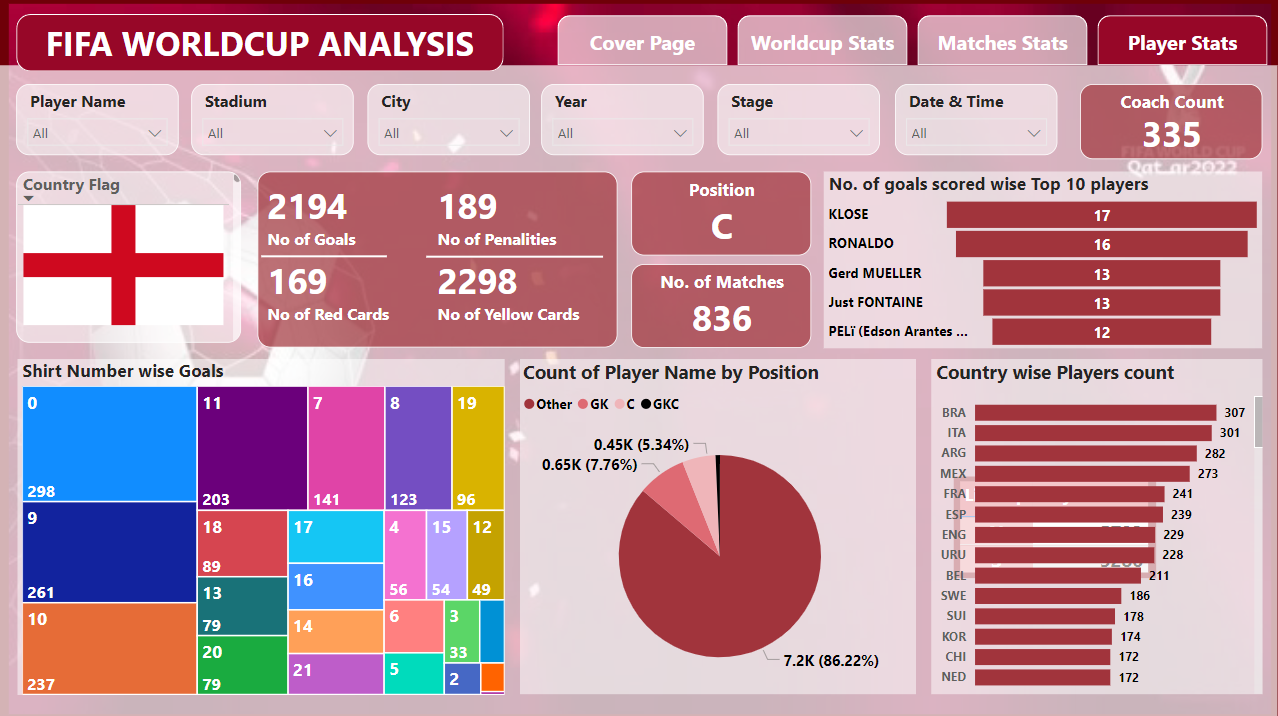

Layout of this report page (visuals, bound fields, positions):
{"tool":"powerbi","page":{"name":"Player Stats","canvas":[1280,720],"ordinal":3},"visuals":[{"type":"image","box":[0,0,1280,720],"z":0},{"type":"shape","box":[0,66.2,1277.5,653.8],"z":1000},{"type":"shape","box":[16.2,15,487.5,57.5],"z":2000},{"type":"card","title":"No. of Matches","fields":{"Values":["WorldCups.MatchesPlayed"]},"box":[631.4,265.1,180,83.8],"z":3000},{"type":"slicer","fields":{"Values":["Team Flags.Player Name"]},"box":[16.3,85.3,162,71],"z":4000},{"type":"slicer","fields":{"Values":["WorldCupMatches.Date & Time"]},"box":[895.4,85,162.5,71.3],"z":5000},{"type":"treemap","title":"Shirt Number wise Goals","fields":{"Group":["WorldCupPlayers.Shirt Number"],"Values":["WorldCupPlayers.No of Goals"]},"box":[17.1,360,487.1,335.7],"z":6000},{"type":"slicer","fields":{"Values":["WorldCupMatches.Date & Time.Variation.Date Hierarchy.Year"]},"box":[541.6,85,162.5,71.3],"z":7000},{"type":"slicer","fields":{"Values":["WorldCupMatches.Stadium"]},"box":[191.3,85,162.5,71.3],"z":8000},{"type":"slicer","fields":{"Values":["WorldCupMatches.City"]},"box":[367.6,85,162.5,71.3],"z":9000},{"type":"pieChart","fields":{"Category":["WorldCupPlayers.Position"],"Y":["WorldCupPlayers.Player Name"]},"box":[520.1,360.1,396.3,335.1],"z":10000},{"type":"tableEx","fields":{"Values":["WorldCupPlayers.Line-up","WorldCupPlayers.Player Name"]},"box":[953.9,477.6,202.5,101.3],"z":11000},{"type":"card","title":"Coach Count","fields":{"Values":["WorldCupPlayers.Coach Name"]},"box":[1080.2,85,182.5,75],"z":12000},{"type":"tableEx","fields":{"Values":["Team Flags.Country Flag"]},"box":[16.3,172.5,225,171.3],"z":13000},{"type":"card","title":"Position","fields":{"Values":["WorldCupPlayers.Position"]},"box":[631.4,172.5,180,83.8],"z":14000},{"type":"multiRowCard","fields":{"Values":["WorldCupPlayers.No of Goals","WorldCupPlayers.No of Penalities","WorldCupPlayers.No of Red Cards","WorldCupPlayers.No of Yellow Cards"]},"box":[257.6,172.5,360.1,176.3],"z":15000},{"type":"shape","box":[425.7,231.4,177.1,52.9],"z":16000},{"type":"shape","box":[261.4,224.3,125.7,67.1],"z":17000},{"type":"clusteredBarChart","title":"Country wise Players count","fields":{"Category":["WorldCupPlayers.Team Initials"],"Y":["WorldCupPlayers.Player Name"]},"box":[931.4,360.1,331.3,335.1],"z":18000},{"type":"funnel","title":"No. of goals scored wise Top 10 players","fields":{"Category":["WorldCupPlayers.Player Name"],"Y":["WorldCupPlayers.No of Goals"]},"box":[824.1,172,438.2,176.5],"z":19000},{"type":"slicer","fields":{"Values":["WorldCupMatches.Stage"]},"box":[717.9,85,162.5,71.3],"z":20000},{"type":"pageNavigator","box":[557.1,15.7,710,50],"z":21000},{"type":"actionButton","box":[1080,85.7,182.9,75.7],"z":22000}]}

Visuals, with their boxes in screenshot pixels (x1, y1, x2, y2), scaled from the page's 1280x720 canvas onto the 1278x716 screenshot:
image: BBox(0, 0, 1277, 715)
shape: BBox(0, 66, 1276, 715)
shape: BBox(16, 15, 503, 72)
"No. of Matches" card: BBox(630, 264, 810, 347)
slicer - Team Flags.Player Name: BBox(16, 85, 178, 155)
slicer - WorldCupMatches.Date & Time: BBox(894, 85, 1056, 155)
"Shirt Number wise Goals" treemap: BBox(17, 358, 503, 692)
slicer - WorldCupMatches.Date & Time.Variation.Date Hierarchy.Year: BBox(541, 85, 703, 155)
slicer - WorldCupMatches.Stadium: BBox(191, 85, 353, 155)
slicer - WorldCupMatches.City: BBox(367, 85, 529, 155)
pieChart - WorldCupPlayers.Position x WorldCupPlayers.Player Name: BBox(519, 358, 915, 691)
tableEx - WorldCupPlayers.Line-up x WorldCupPlayers.Player Name: BBox(952, 475, 1155, 576)
"Coach Count" card: BBox(1079, 85, 1261, 159)
tableEx - Team Flags.Country Flag: BBox(16, 172, 241, 342)
"Position" card: BBox(630, 172, 810, 255)
multiRowCard - WorldCupPlayers.No of Goals x WorldCupPlayers.No of Penalities: BBox(257, 172, 617, 347)
shape: BBox(425, 230, 602, 283)
shape: BBox(261, 223, 386, 290)
"Country wise Players count" clusteredBarChart: BBox(930, 358, 1261, 691)
"No. of goals scored wise Top 10 players" funnel: BBox(823, 171, 1260, 347)
slicer - WorldCupMatches.Stage: BBox(717, 85, 879, 155)
pageNavigator: BBox(556, 16, 1265, 65)
actionButton: BBox(1078, 85, 1261, 161)
